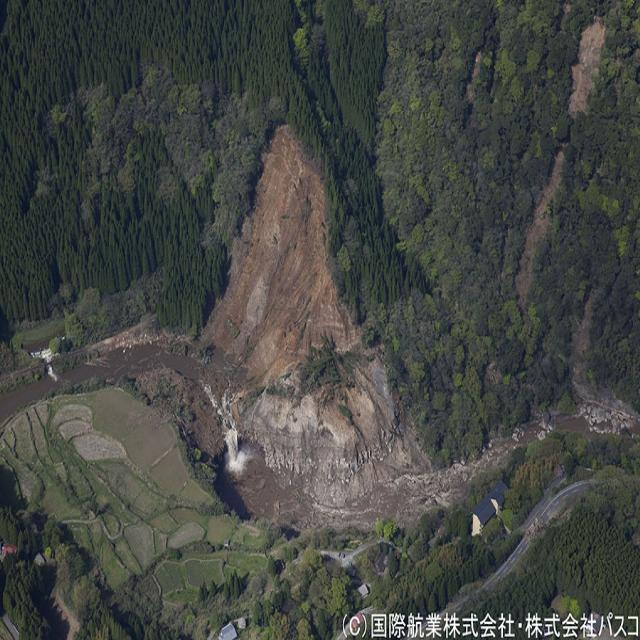Debris-flow: (0, 126, 640, 526), (514, 148, 564, 314), (569, 19, 605, 120)
